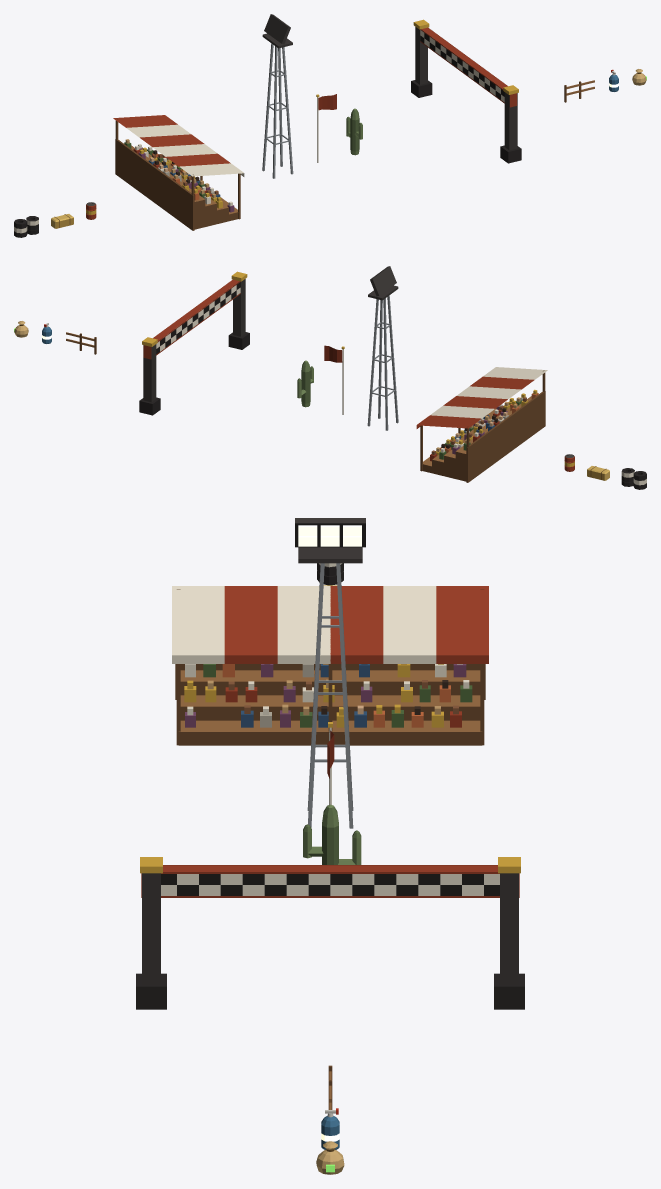
The model's file is props.glb.
3 renders of one model, top to bottom at view 1: azimuth 30°, elevation 25°; view 2: azimuth 150°, elevation 25°; view 3: azimuth 270°, elevation 25°, orthographic. The views are drawn at different scales.
Parts seen in each view (by area): view 1: show_grandstand, show_start_arch, show_floodlight, show_cactus, show_tire_stack, show_flag_pole; view 2: show_grandstand, show_start_arch, show_floodlight, show_cactus, show_tire_stack, show_flag_pole; view 3: show_grandstand, show_start_arch, show_floodlight, show_cactus.
Boxes of the visible parts, x1,y1,x2,y2 form: show_grandstand: (113,115,244,230); show_start_arch: (411,19,521,163); show_floodlight: (262,14,293,178); show_cactus: (346,108,362,155); show_tire_stack: (14,216,38,237); show_flag_pole: (316,94,336,162); show_grandstand: (416,367,547,482); show_start_arch: (139,271,249,415); show_floodlight: (367,266,398,430); show_cactus: (297,360,313,407); show_tire_stack: (621,468,646,489); show_flag_pole: (324,345,344,414); show_grandstand: (172,586,488,745); show_start_arch: (136,857,524,1009); show_floodlight: (295,518,365,828); show_cactus: (303,804,361,864).
Bounding box in the file's own units: 43.15 × 9.9 × 11.52.
